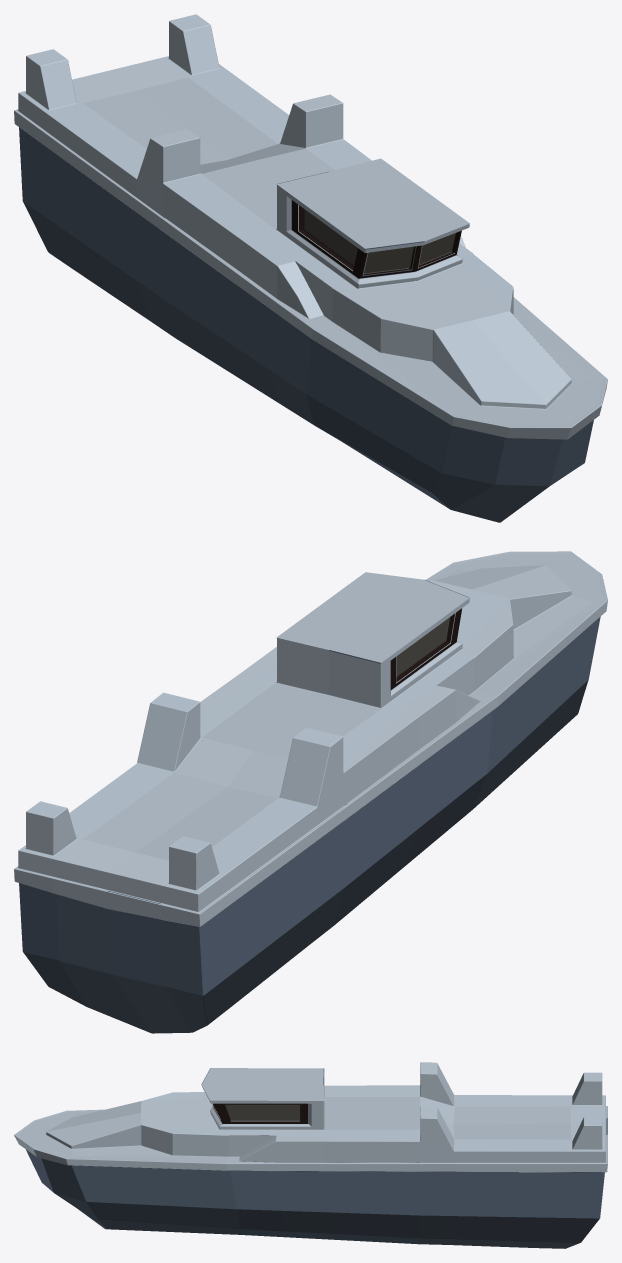
Rendered from boat_medium_02.fbx.
3 views of the same model, one above another, from view 1: azimuth 30°, elevation 25°; view 2: azimuth 150°, elevation 25°; view 3: azimuth 270°, elevation 25° (orthographic). The views are drawn at different scales.
Parts seen in each view (by area): view 1: Cube; view 2: Cube; view 3: Cube.
Boxes of the visible parts, left/top/right/bottom form: Cube: left=14, top=14, right=607, bottom=522; Cube: left=14, top=551, right=607, bottom=1033; Cube: left=14, top=1062, right=607, bottom=1248.
Size of the model in its own units: 286 by 372 by 1235.
